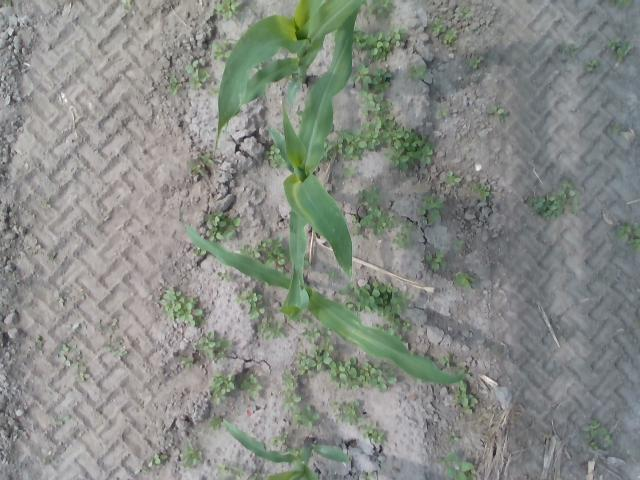Maize: (177, 201, 468, 384), (268, 9, 354, 283), (216, 1, 364, 151), (221, 418, 350, 480)
Weeds: (338, 116, 433, 172), (348, 276, 412, 315), (527, 180, 575, 219), (356, 29, 408, 61), (357, 190, 392, 237), (330, 360, 392, 386), (358, 68, 394, 112), (252, 308, 284, 336), (442, 453, 473, 480), (418, 195, 448, 222), (250, 235, 286, 257), (212, 370, 235, 404), (456, 382, 481, 412), (295, 404, 321, 432), (189, 152, 213, 180), (238, 374, 265, 398), (176, 302, 203, 326), (186, 59, 206, 90), (202, 334, 226, 358), (433, 22, 458, 44), (308, 350, 332, 372), (217, 0, 243, 20), (206, 214, 226, 240), (617, 223, 640, 245), (364, 424, 388, 444), (183, 446, 206, 466), (238, 291, 262, 310), (281, 370, 301, 392), (161, 288, 183, 306), (455, 231, 471, 254), (272, 429, 290, 447), (617, 42, 632, 63), (428, 251, 444, 270), (408, 64, 426, 80), (473, 184, 491, 200), (147, 455, 169, 468), (320, 331, 335, 350), (296, 352, 308, 375), (438, 350, 453, 368), (214, 45, 232, 60), (228, 216, 244, 232), (216, 269, 237, 281), (392, 318, 410, 332), (300, 328, 320, 340), (284, 394, 302, 407), (76, 366, 90, 382), (446, 172, 462, 186), (368, 0, 388, 11), (168, 78, 180, 96), (458, 272, 473, 286), (396, 217, 412, 230), (342, 398, 359, 410), (394, 232, 408, 246), (268, 148, 281, 163), (584, 421, 600, 433), (610, 36, 621, 52), (115, 340, 126, 356), (324, 142, 334, 158), (586, 59, 600, 70), (489, 107, 506, 116), (587, 438, 598, 450), (470, 56, 480, 69), (182, 356, 195, 366), (449, 430, 458, 444), (564, 43, 576, 53), (58, 344, 70, 354), (611, 0, 628, 7), (360, 472, 374, 480), (601, 436, 612, 446), (48, 251, 58, 260), (462, 6, 470, 13), (441, 110, 448, 116)
